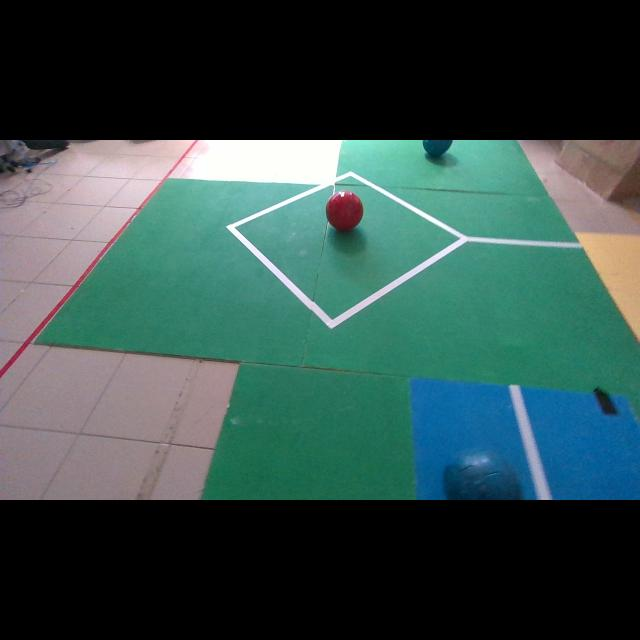B: (444, 451, 524, 500), (422, 140, 452, 156)
R: (326, 191, 364, 230)
